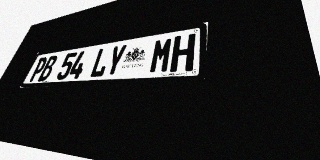4: (67, 50, 90, 79)
5: (55, 52, 78, 80)
B: (37, 55, 59, 81)
H: (169, 33, 196, 72)
L: (89, 46, 112, 78)
M: (148, 37, 174, 74)
P: (28, 57, 49, 82)
Y: (103, 44, 128, 77)
